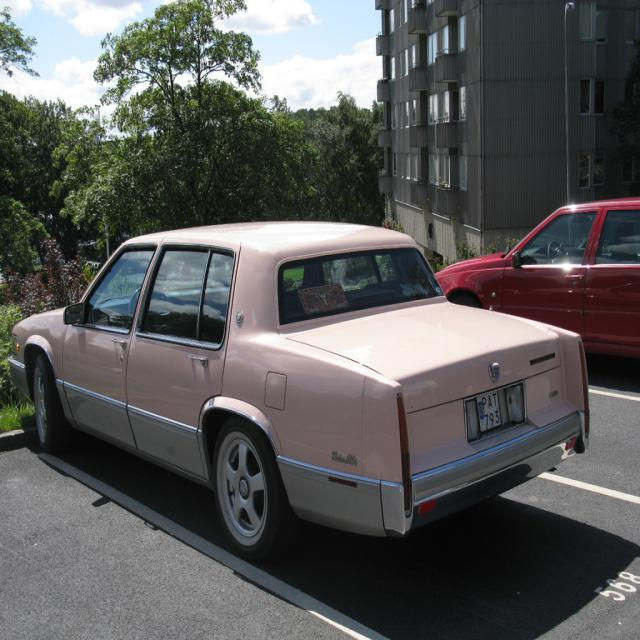car: (7, 221, 589, 562)
